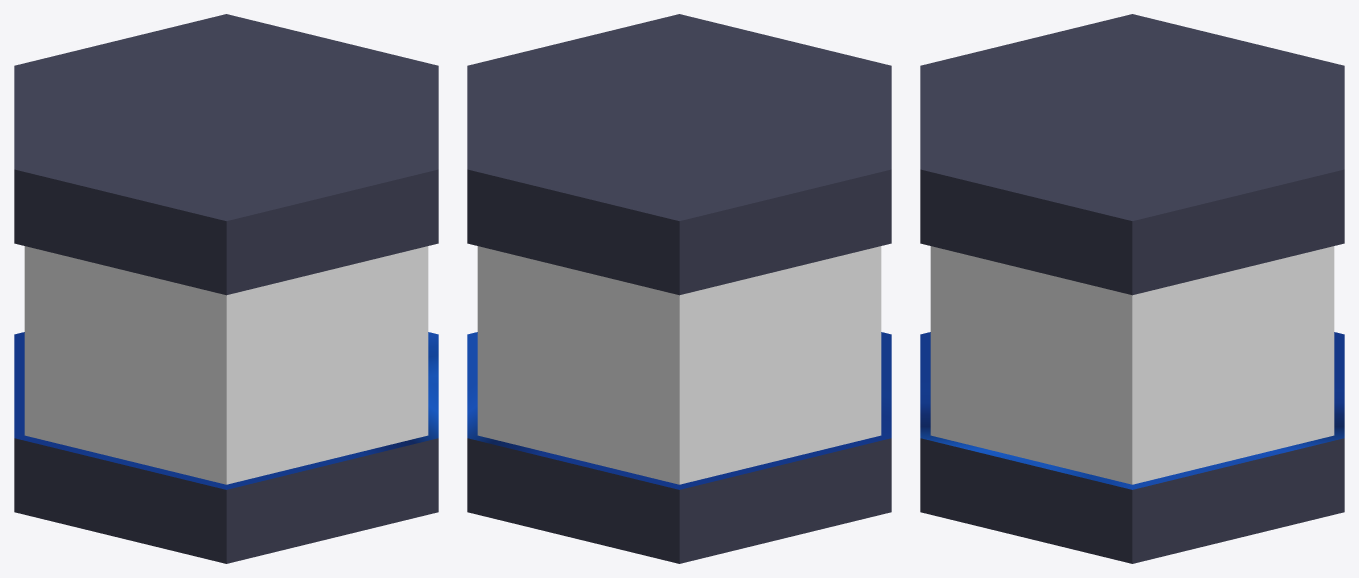
The model's file is lightpot sml.FBX.
3 views of the same model, side by side, from view 1: azimuth 30°, elevation 25°; view 2: azimuth 150°, elevation 25°; view 3: azimuth 270°, elevation 25° (orthographic).
Visible parts, largest first — view 1: Cylinder001; view 2: Cylinder001; view 3: Cylinder001.
Boxes of the visible parts, bbox=[...] form: Cylinder001: bbox=[14, 14, 438, 563]; Cylinder001: bbox=[467, 14, 891, 563]; Cylinder001: bbox=[920, 14, 1344, 563].
Bounding box in the file's own units: 20 × 15.43 × 17.32.
